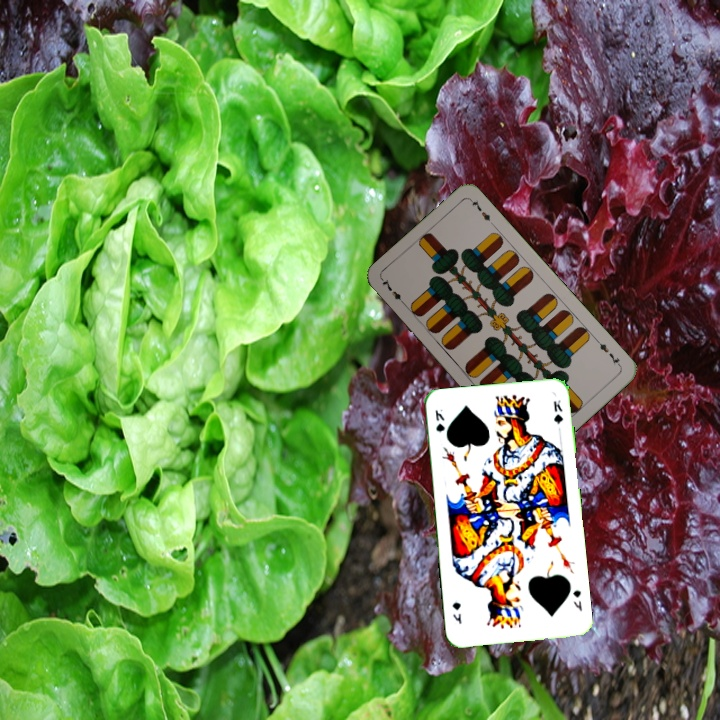E7: (593, 336, 624, 370), (378, 275, 409, 309)
GK: (431, 405, 447, 436), (569, 586, 585, 613)
